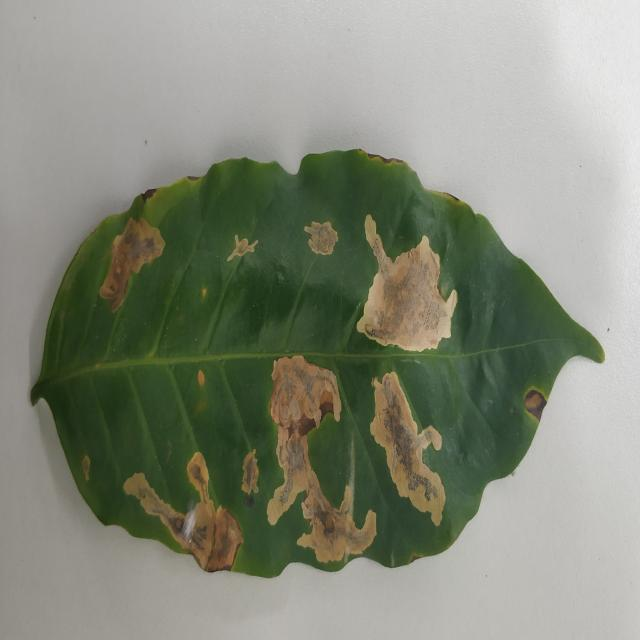Plaga-Minador: (30, 150, 606, 582)
